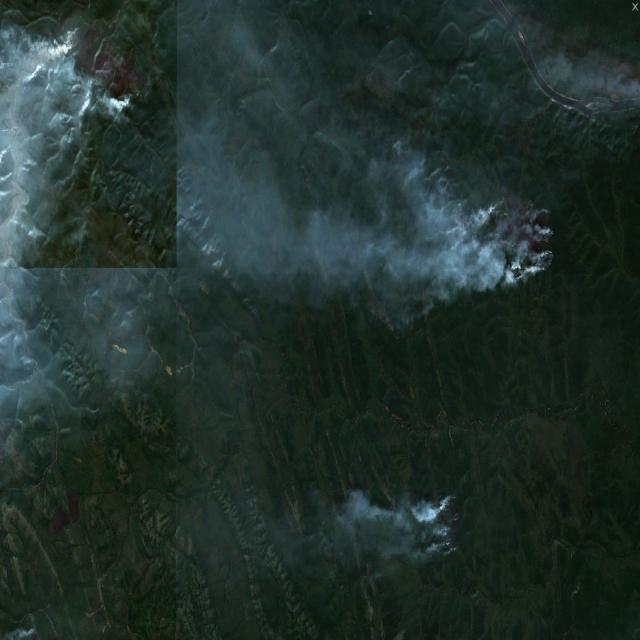fire: (54, 14, 154, 117), (470, 182, 558, 292), (412, 480, 463, 560)
